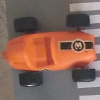naranja: (3, 16, 95, 81)
